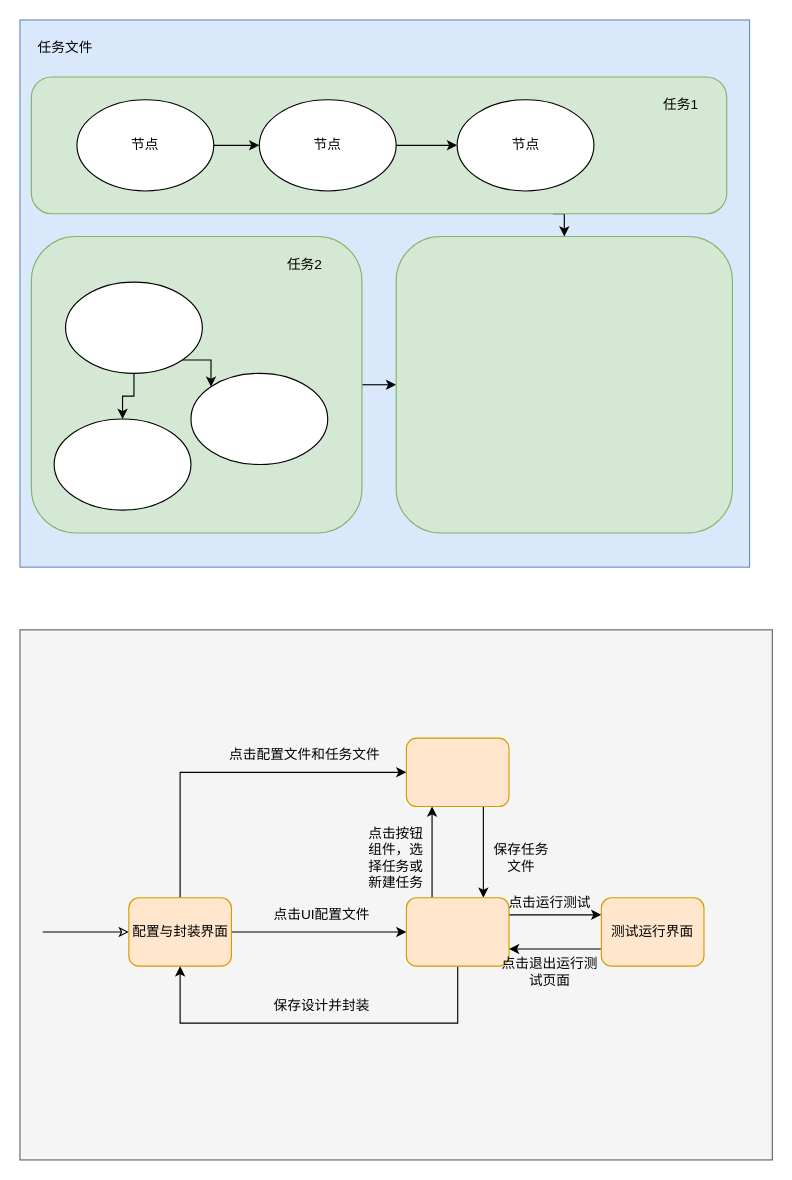
This 792x1180 diagram has some shape labels left out. Here are the shapes that lost their labels. From the top down, the centre of each, then its label:
At point 563,384: "任务3".
At point 457,772: "任务设计界面".
At point 457,931: "UI设计界面".
